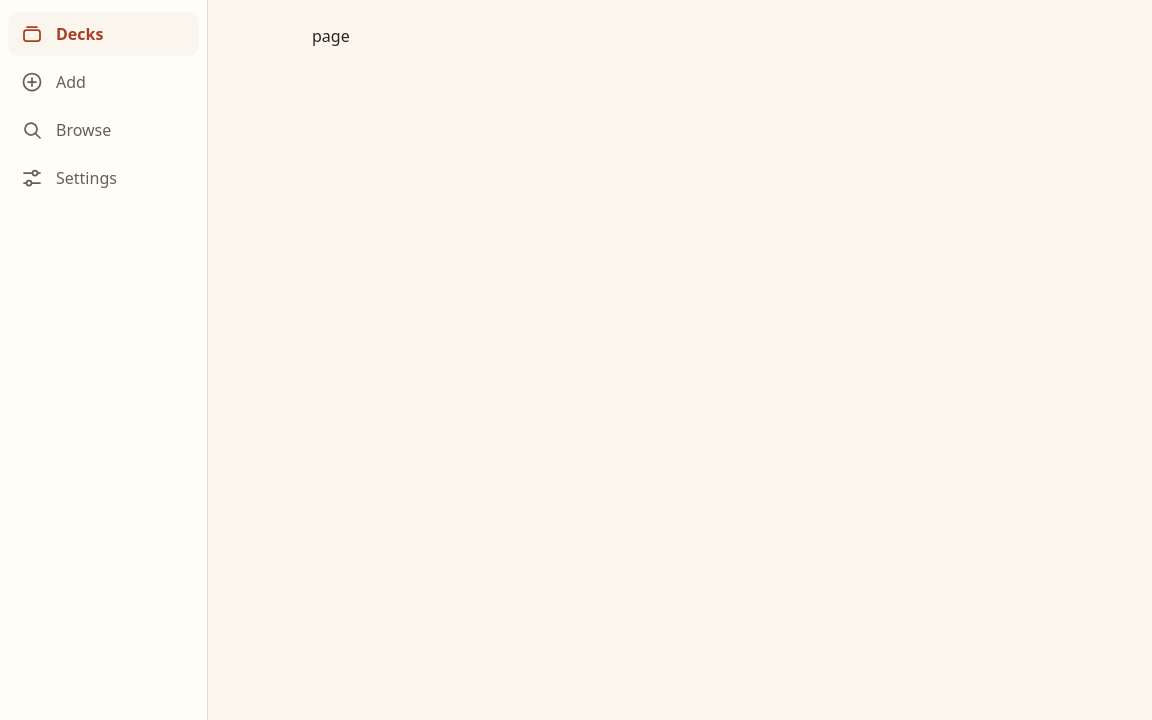
Test: shortcuts › ? opens the shortcuts list
This screenshot has width=1152, height=720.
Press ?
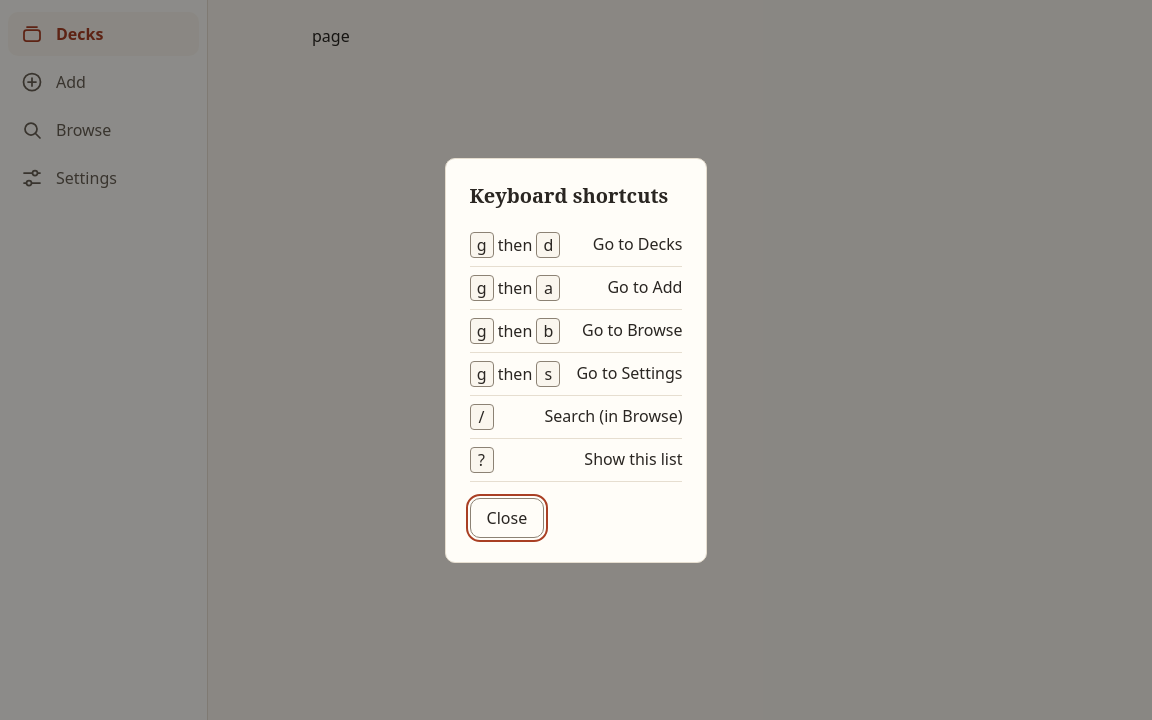
Result: the dialog "Keyboard shortcuts" shows "Go to Browse" at [444,158,707,562]
Click the button "Close" at (507, 518), box [470,498,544,538]
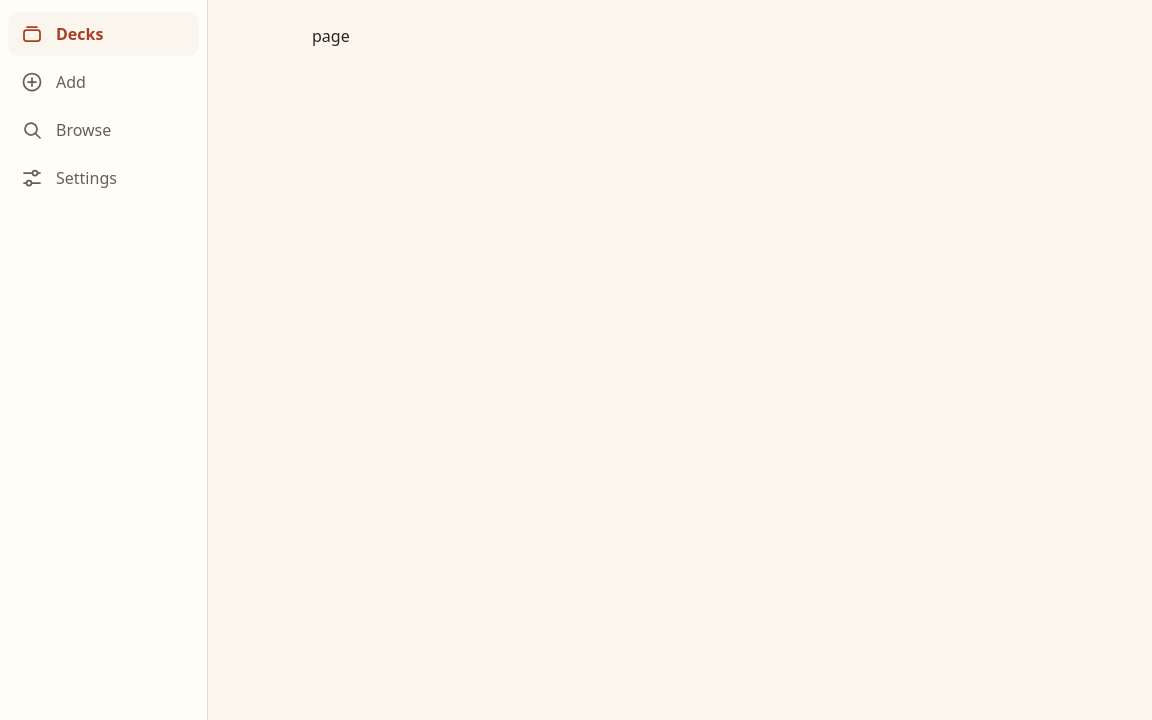
Result: the dialog is gone
